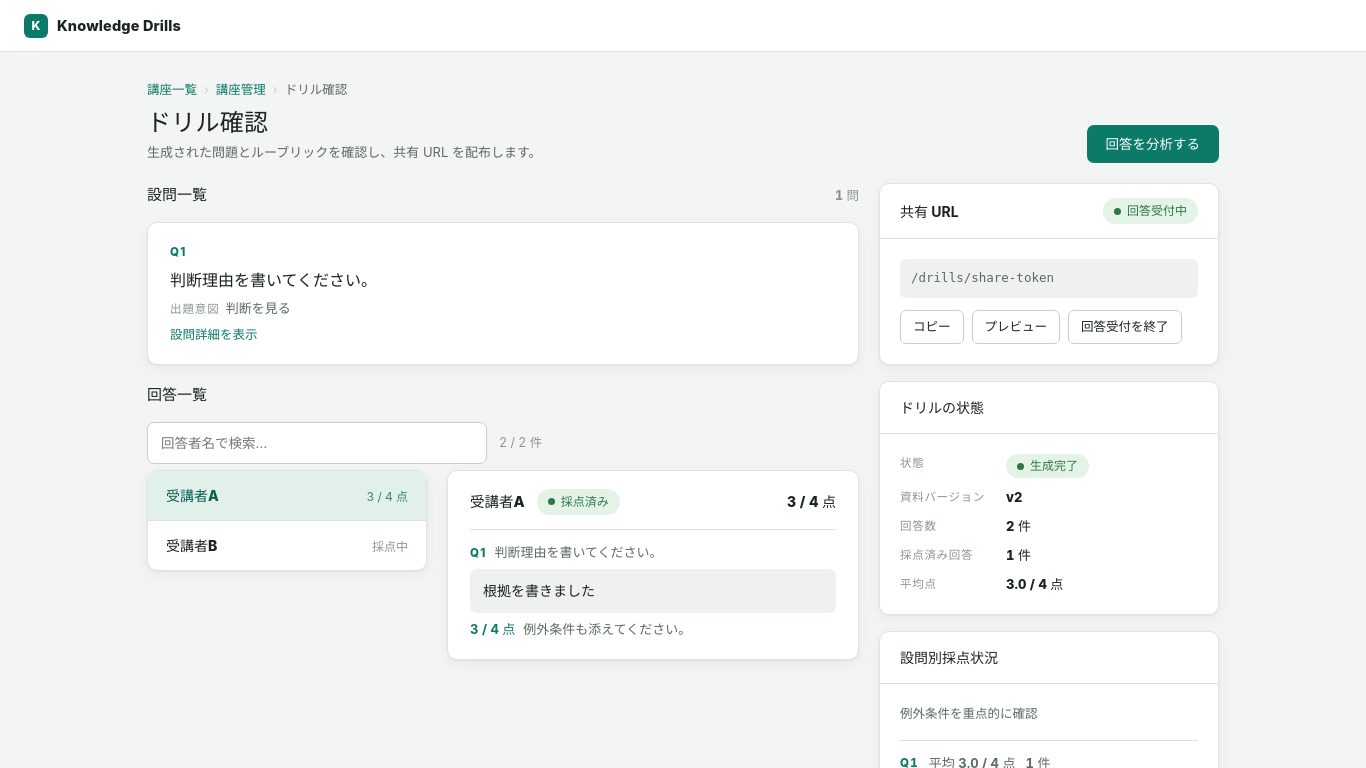
Scenario: DrillAdminPage › shows share URL, status, score summary, collapsed questions, and analyze button in side-first DOM order
expect the text "/drills/share-token" is shown: met, box left=900, top=259, right=1198, bottom=298
expect the heading "ドリルの状態" is shown: met, box left=900, top=396, right=984, bottom=419
Click the text "設問詳細を表示".
click(214, 336)  # box left=170, top=325, right=258, bottom=346
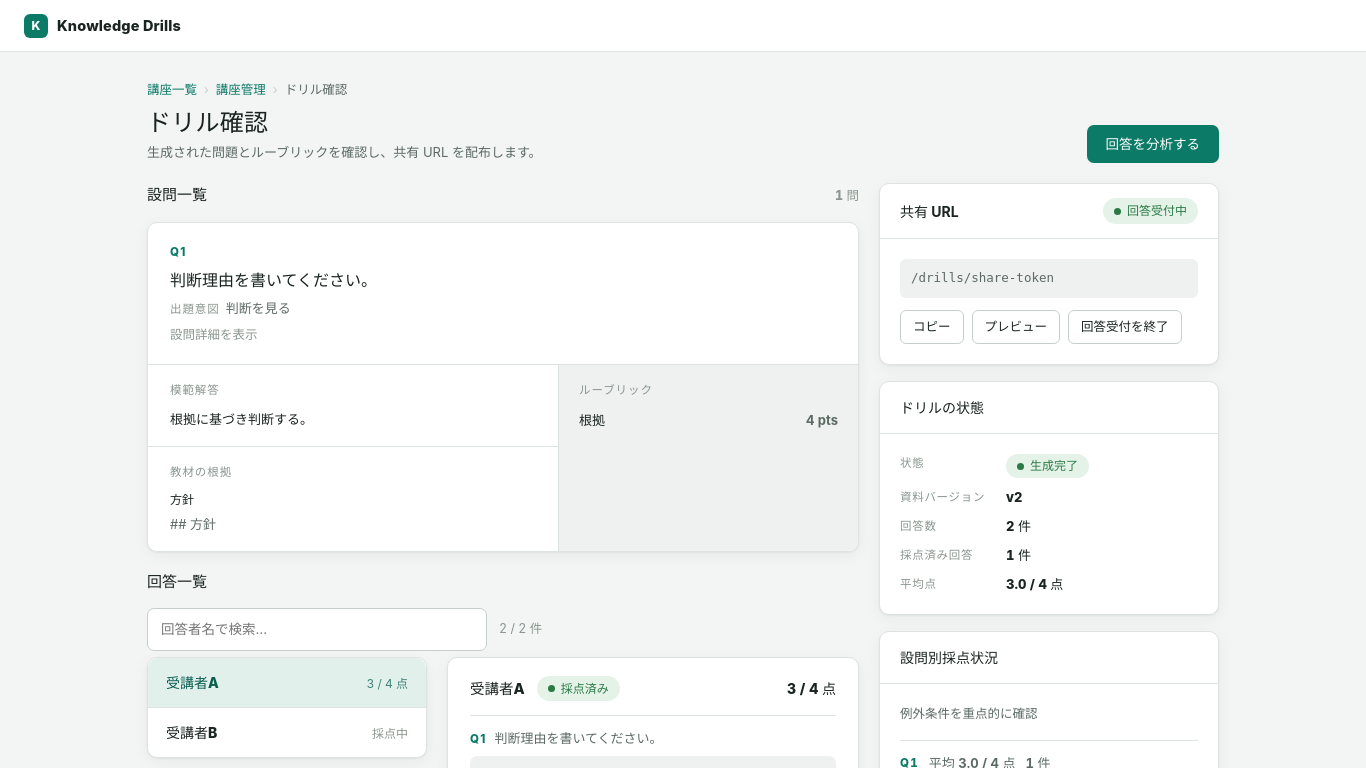
expect the heading "模範解答" is shown: met, box left=170, top=383, right=220, bottom=397
expect the text "根拠に基づき判断する。" is shown: met, box left=170, top=411, right=313, bottom=427
expect the heading "教材の根拠" is shown: met, box left=170, top=465, right=232, bottom=479
